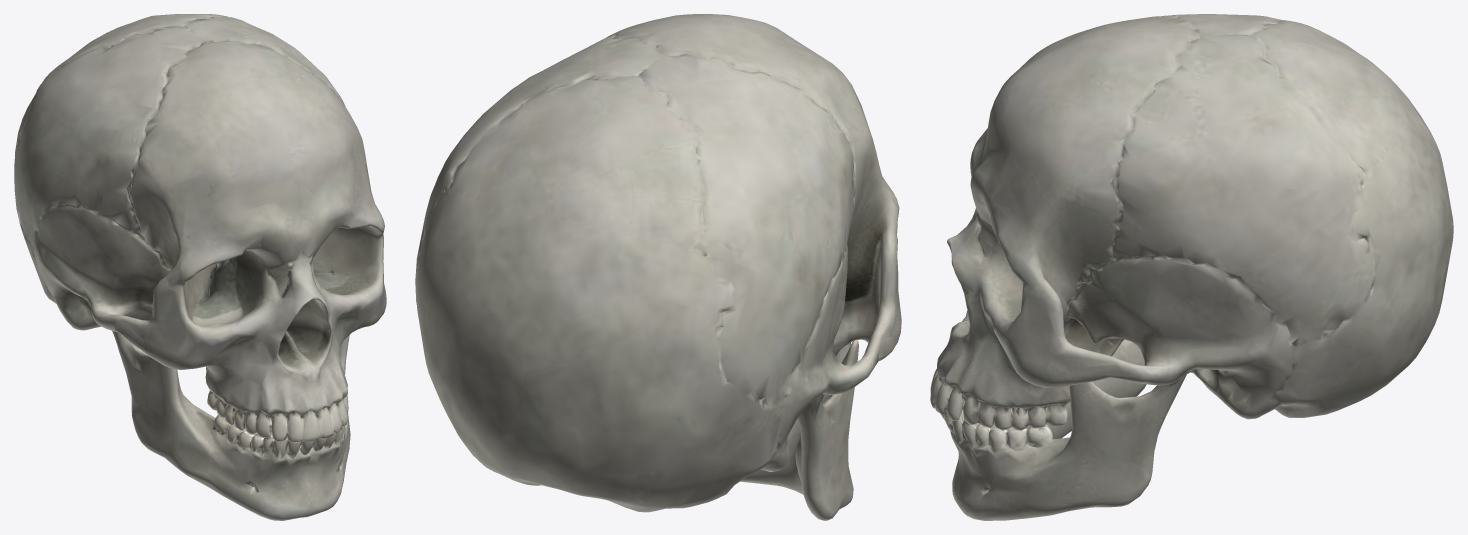
The picture shows the model from 3 angles, left to right: view 1: azimuth 30°, elevation 25°; view 2: azimuth 150°, elevation 25°; view 3: azimuth 270°, elevation 25°; orthographic projection. The views are drawn at different scales.
Bounding box in the file's own units: 1.38 × 1.9 × 1.9.
1 material, 1 textured.
